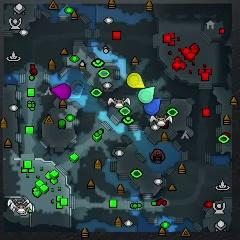p1: (144, 98, 161, 114)
p2: (138, 86, 155, 104)
p3: (50, 84, 71, 99)
p4: (127, 73, 145, 88)
